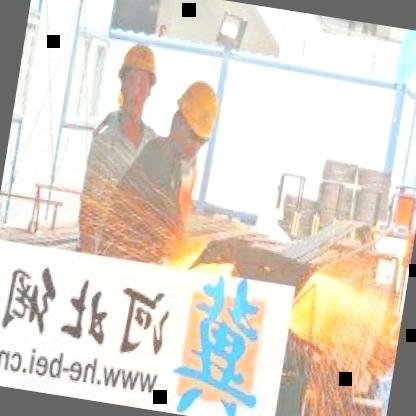helmet: (161, 64, 227, 166), (106, 33, 170, 125)
